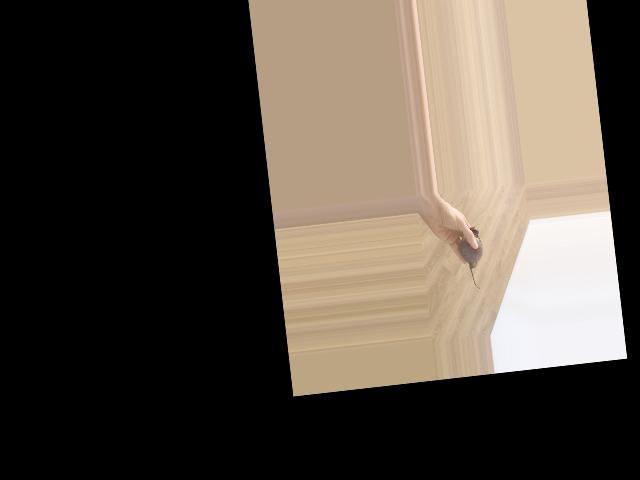beet: (457, 226, 487, 291)
